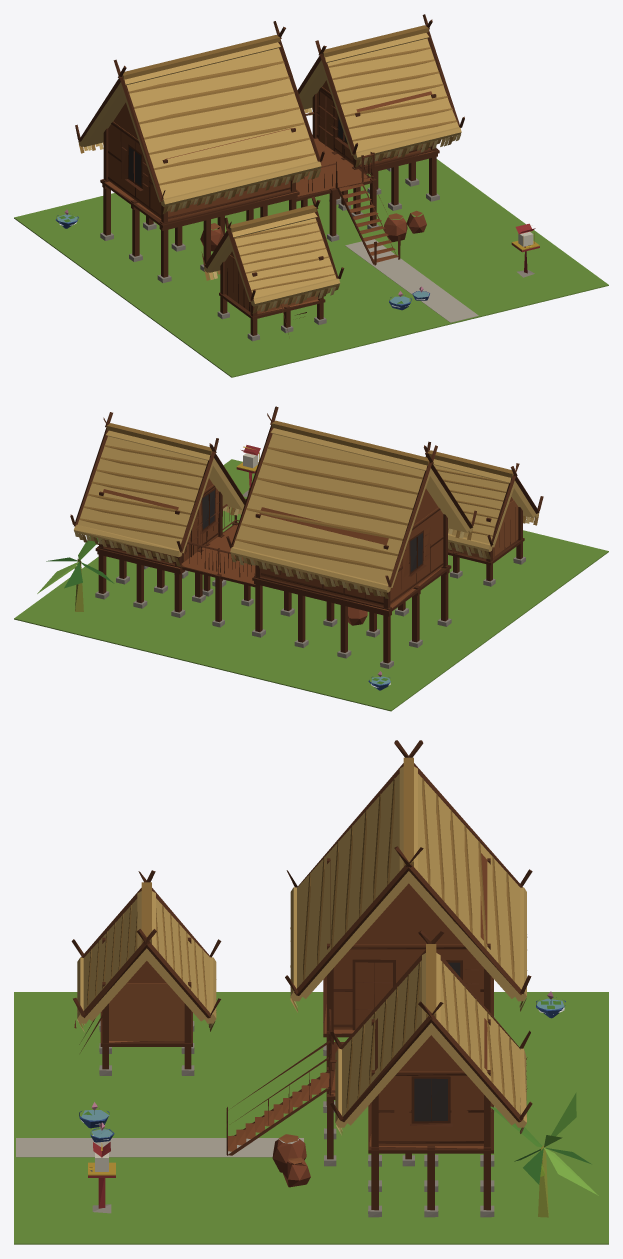
The model's file is home_3.glb.
3 views of the same model, one above another, from view 1: azimuth 30°, elevation 25°; view 2: azimuth 150°, elevation 25°; view 3: azimuth 270°, elevation 25° (orthographic). The views are drawn at different scales.
Visible parts, largest first — view 1: body, windows; view 2: body, windows; view 3: body, windows.
Part boxes in pixels (bbox=[...]): body: bbox=[14, 14, 608, 377]; windows: bbox=[128, 117, 346, 186]; body: bbox=[14, 406, 608, 711]; windows: bbox=[202, 490, 422, 572]; body: bbox=[14, 740, 608, 1244]; windows: bbox=[414, 962, 460, 1121].
Size of the model in its own units: 15.9 by 8.15 by 15.9.
